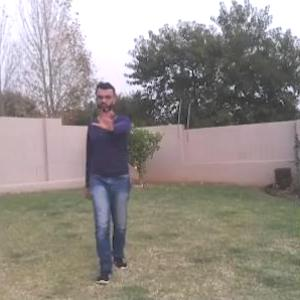follow_hand: (90, 103, 120, 132)
